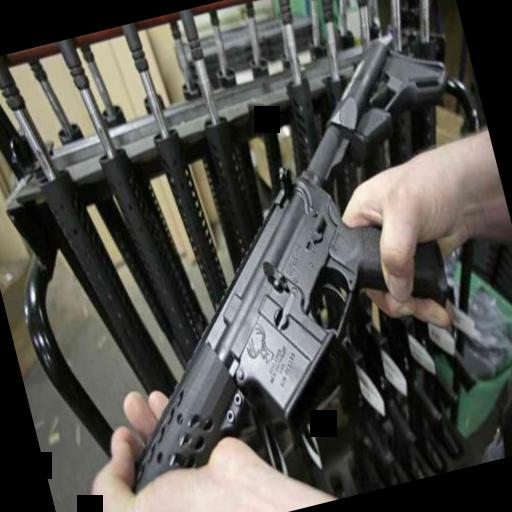Handgun: (166, 140, 478, 460)
